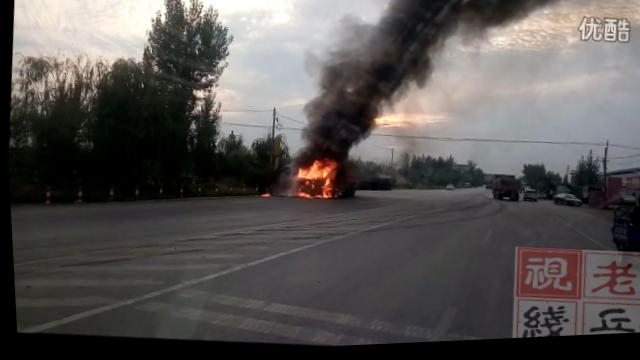fire: (318, 179, 330, 200), (306, 162, 319, 180), (318, 162, 331, 179), (295, 169, 307, 179), (295, 195, 307, 200), (311, 196, 321, 200), (260, 195, 268, 200)
